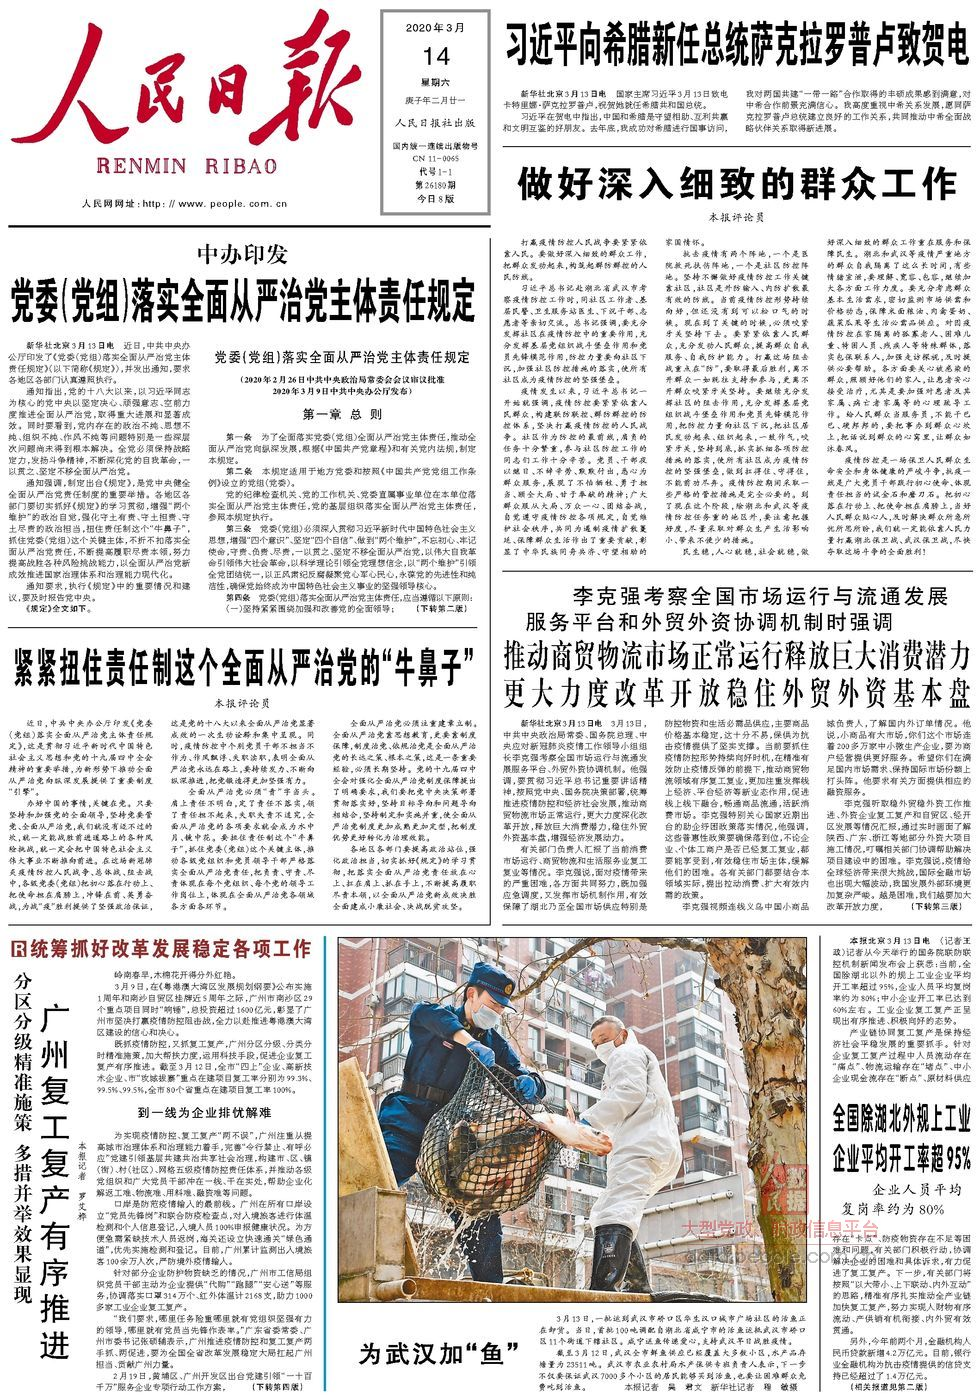pic: (333, 934, 812, 1309)
